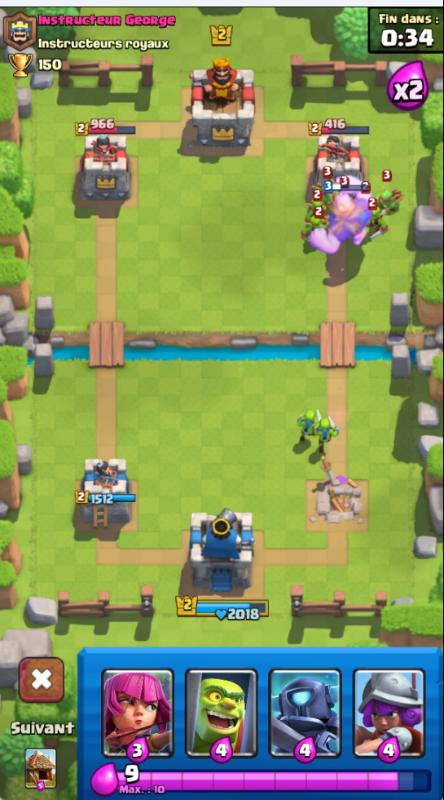geant: (309, 181, 370, 254)
gobelin: (364, 199, 391, 238), (317, 415, 341, 456), (300, 213, 331, 243), (295, 410, 320, 442)
gobelin_lances: (308, 177, 339, 208), (379, 182, 405, 217)
